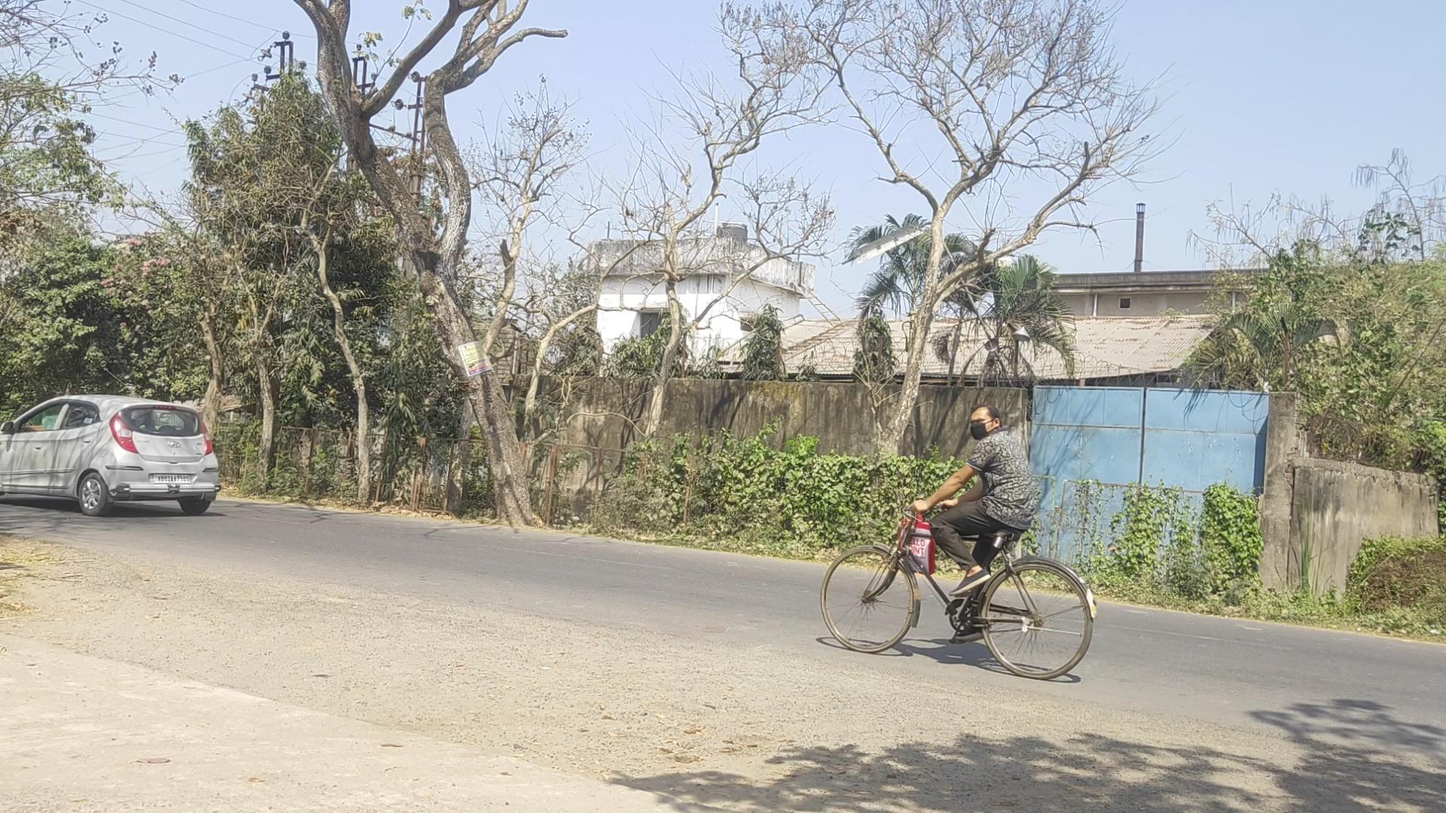bike: (820, 403, 1099, 681)
car: (1, 395, 220, 518)
